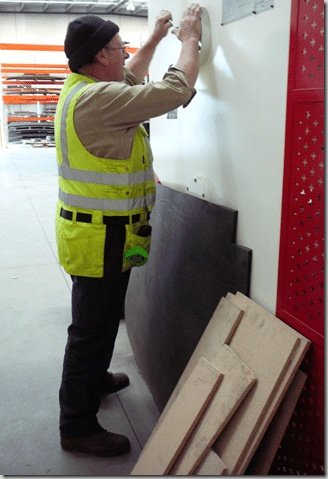person with partial safety: (48, 23, 176, 456)
safety vest: (52, 83, 162, 275)
